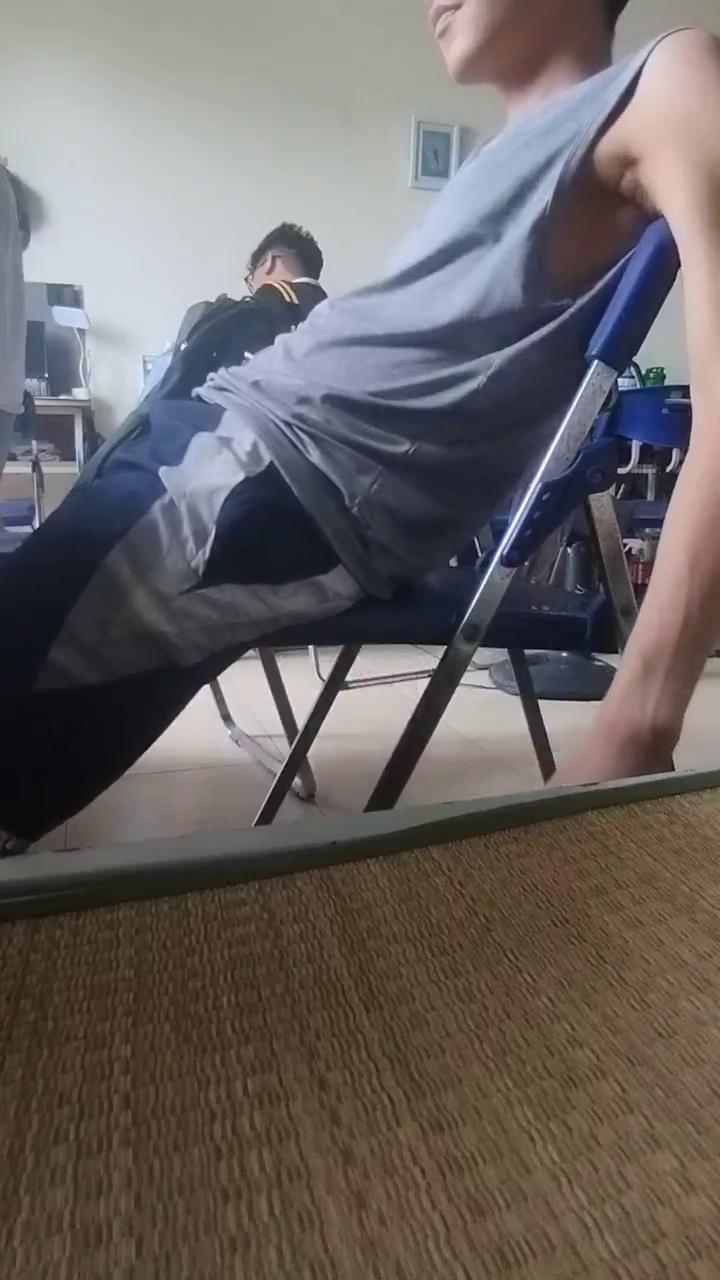BadPosture: (0, 0, 719, 856)
